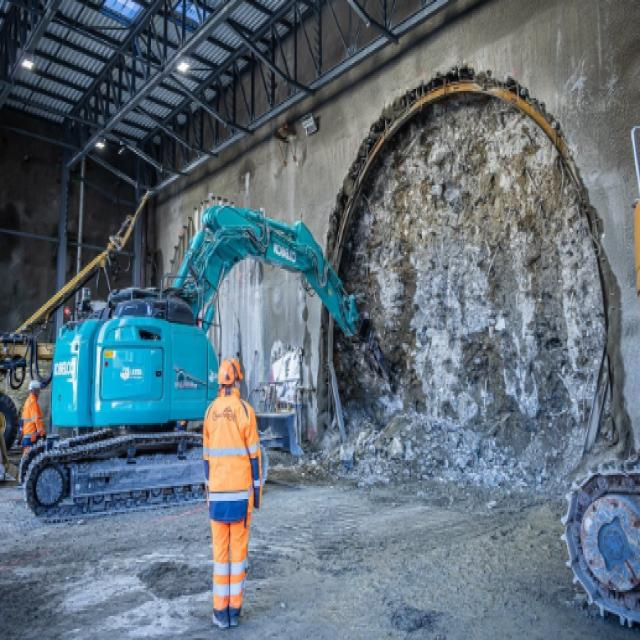boots: (208, 599, 247, 632)
helmet: (215, 354, 248, 396), (28, 376, 43, 401)
vest: (199, 388, 265, 521), (20, 391, 46, 446)
